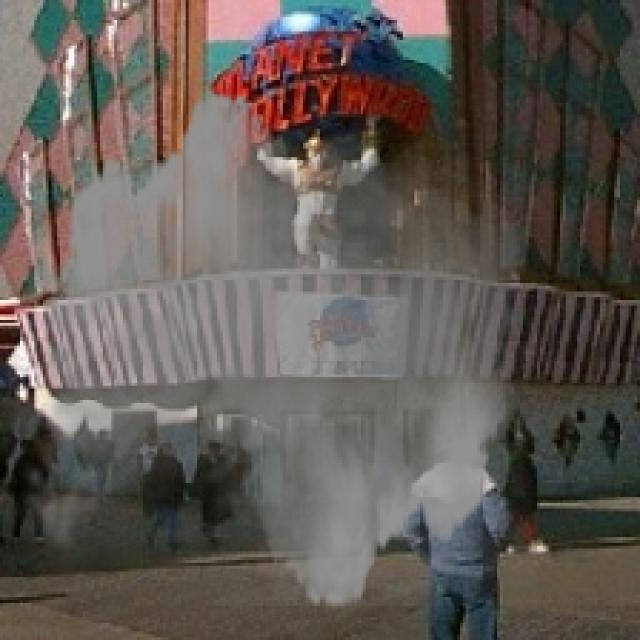smoke: (6, 74, 537, 626)
